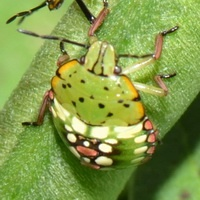insect: (18, 0, 178, 169)
